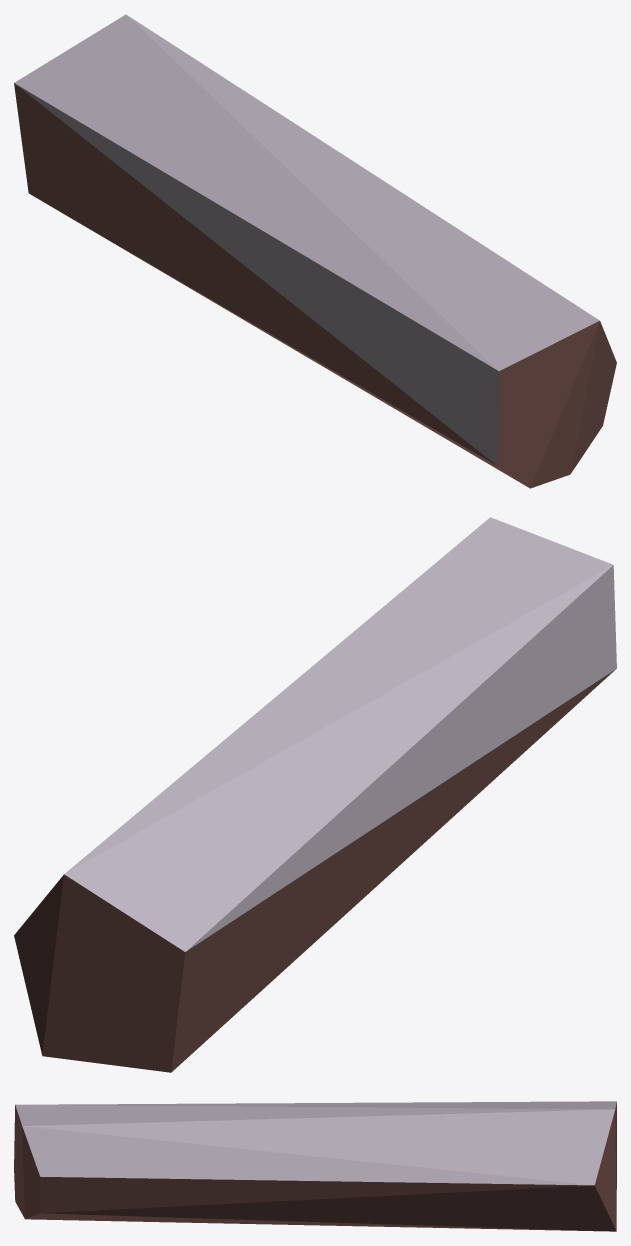
The model's file is WoodLog_Snow.lod4.glb.
3 views of the same model, one above another, from view 1: azimuth 30°, elevation 25°; view 2: azimuth 150°, elevation 25°; view 3: azimuth 270°, elevation 25° (orthographic). The views are drawn at different scales.
Parts seen in each view (by area): view 1: WoodLog_Snow; view 2: WoodLog_Snow; view 3: WoodLog_Snow.
Part boxes in pixels (x1,y1,x2,y2): WoodLog_Snow: [14, 14, 616, 488]; WoodLog_Snow: [14, 517, 616, 1072]; WoodLog_Snow: [14, 1101, 616, 1231].
Bounding box in the file's own units: 0.6094 × 0.5291 × 2.49.
